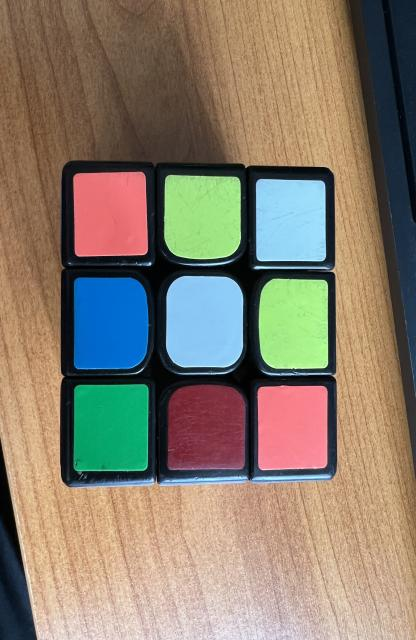Blue: (74, 278, 148, 370)
Green: (74, 384, 148, 471)
Orange: (74, 171, 147, 256), (258, 385, 327, 470)
Red: (168, 386, 246, 471)
White: (166, 276, 244, 368), (256, 179, 326, 261)
Yellow: (164, 175, 242, 259), (259, 279, 328, 369)
